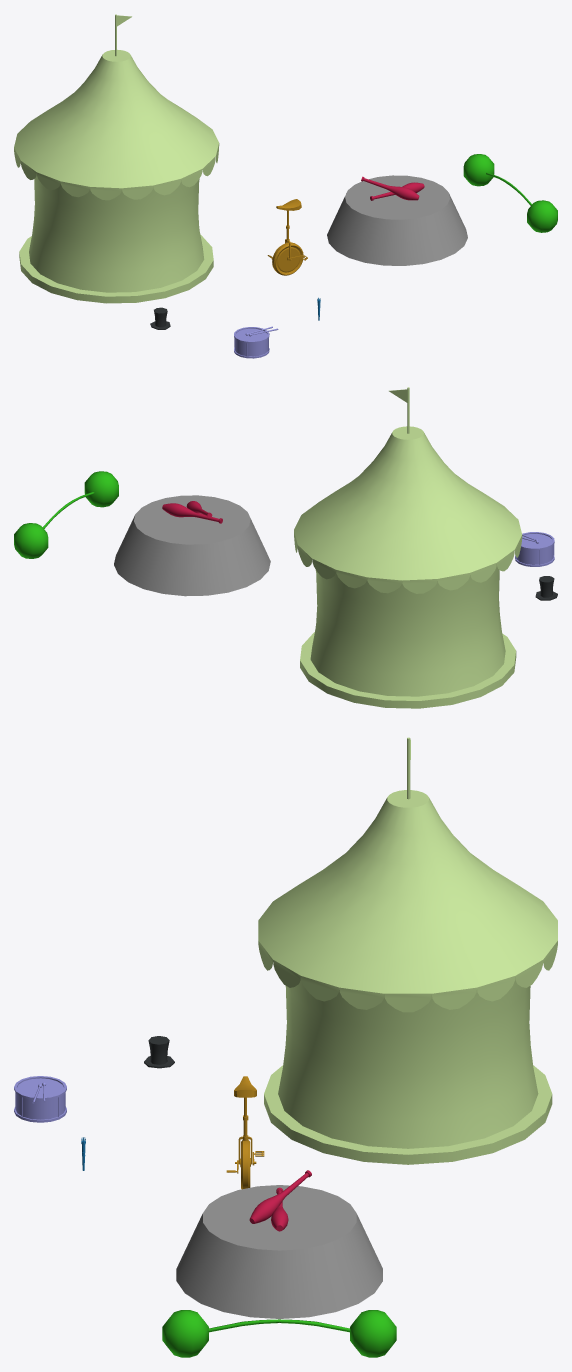
Rendered from CircusAll.FBX.
The picture shows the model from 3 angles, top to bottom: view 1: azimuth 30°, elevation 25°; view 2: azimuth 150°, elevation 25°; view 3: azimuth 270°, elevation 25°; orthographic projection. The views are drawn at different scales.
Visible parts, largest first — view 1: roof_low, tent_low, platform_low, weight1_low, drummain_low, wheel_low; view 2: roof_low, tent_low, platform_low, weight1_low, drummain_low, juggling_low; view 3: roof_low, tent_low, platform_low, weight1_low, drummain_low, juggling_low001.
Part boxes in pixels (x1=…): roof_low: x1=14, y1=49, x2=219, y2=200; tent_low: x1=19, y1=173, x2=213, y2=303; platform_low: x1=327, y1=175, x2=467, y2=265; weight1_low: x1=463, y1=154, x2=557, y2=232; drummain_low: x1=234, y1=327, x2=269, y2=358; wheel_low: x1=272, y1=242, x2=303, y2=275; roof_low: x1=294, y1=426, x2=522, y2=593; tent_low: x1=300, y1=564, x2=516, y2=708; platform_low: x1=114, y1=495, x2=270, y2=596; weight1_low: x1=14, y1=471, x2=118, y2=558; drummain_low: x1=515, y1=532, x2=554, y2=566; juggling_low: x1=162, y1=503, x2=222, y2=523; roof_low: x1=258, y1=790, x2=557, y2=1012; tent_low: x1=264, y1=977, x2=552, y2=1164; platform_low: x1=176, y1=1185, x2=382, y2=1318; weight1_low: x1=162, y1=1310, x2=396, y2=1357; drummain_low: x1=14, y1=1076, x2=66, y2=1122; juggling_low001: x1=249, y1=1170, x2=311, y2=1223.
Size of the model in its own units: 348 by 182 by 246.
